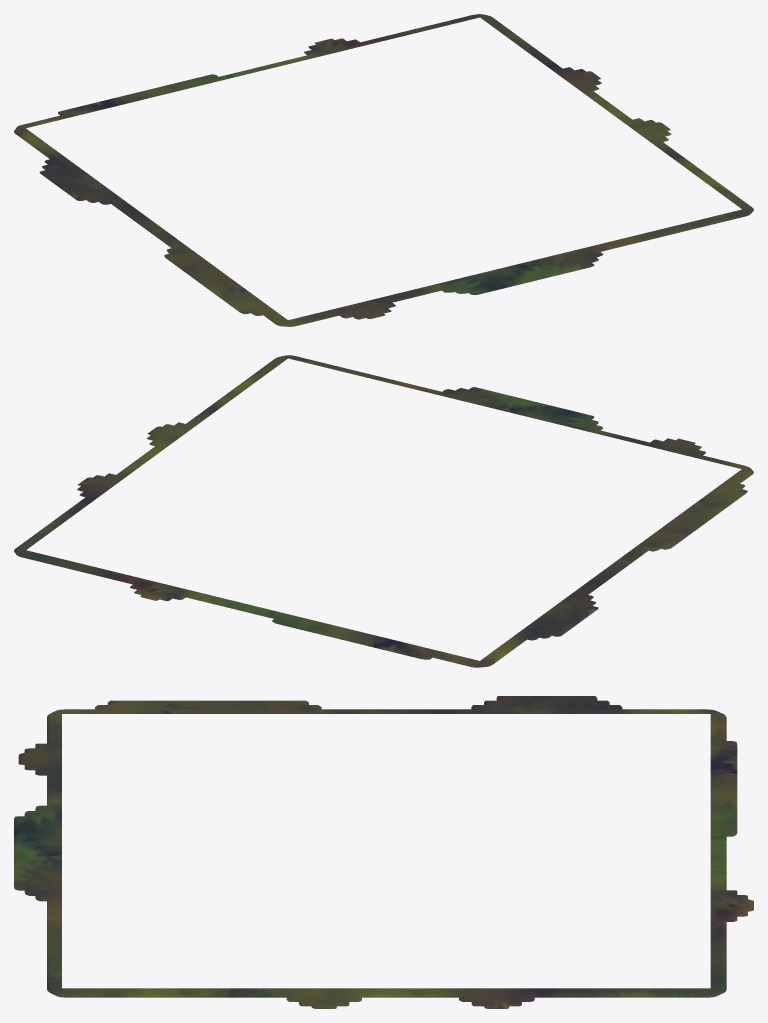
File: beachy.fbx
The picture shows the model from 3 angles, top to bottom: view 1: azimuth 30°, elevation 25°; view 2: azimuth 150°, elevation 25°; view 3: azimuth 270°, elevation 25°; orthographic projection. The views are drawn at different scales.
Visible parts, largest first — view 1: Cube; view 2: Cube; view 3: Cube.
Part boxes in pixels (bbox=[...]): Cube: bbox=[14, 14, 753, 326]; Cube: bbox=[14, 355, 753, 667]; Cube: bbox=[14, 696, 753, 1008].
Size of the model in its own units: 69.6 by 0.25 by 69.6.
